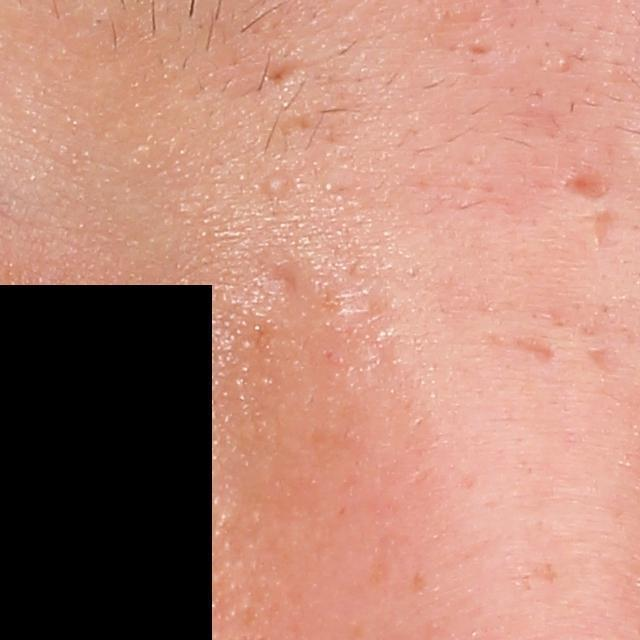atrophic_scar: (482, 330, 561, 368), (559, 169, 624, 204), (260, 60, 303, 89), (586, 346, 622, 378), (591, 208, 613, 256), (467, 43, 495, 57)
comedo: (259, 172, 294, 203)
melasma: (535, 562, 565, 587), (411, 561, 428, 596)
